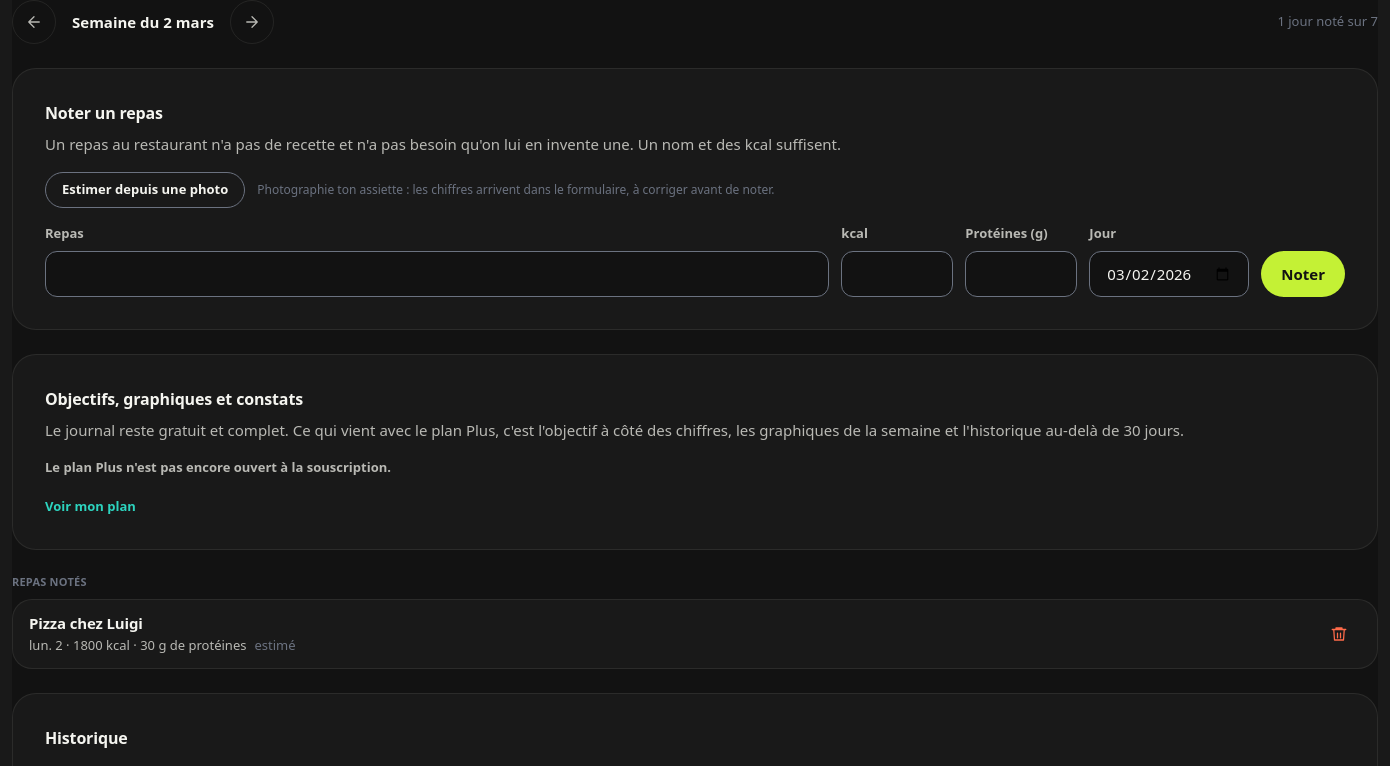
Test: Journal › puts a deleted entry back, with the figures it had
Click the button named "Retirer Pizza chez Luigi du journal": point(1339, 634) [1317,612,1361,656]
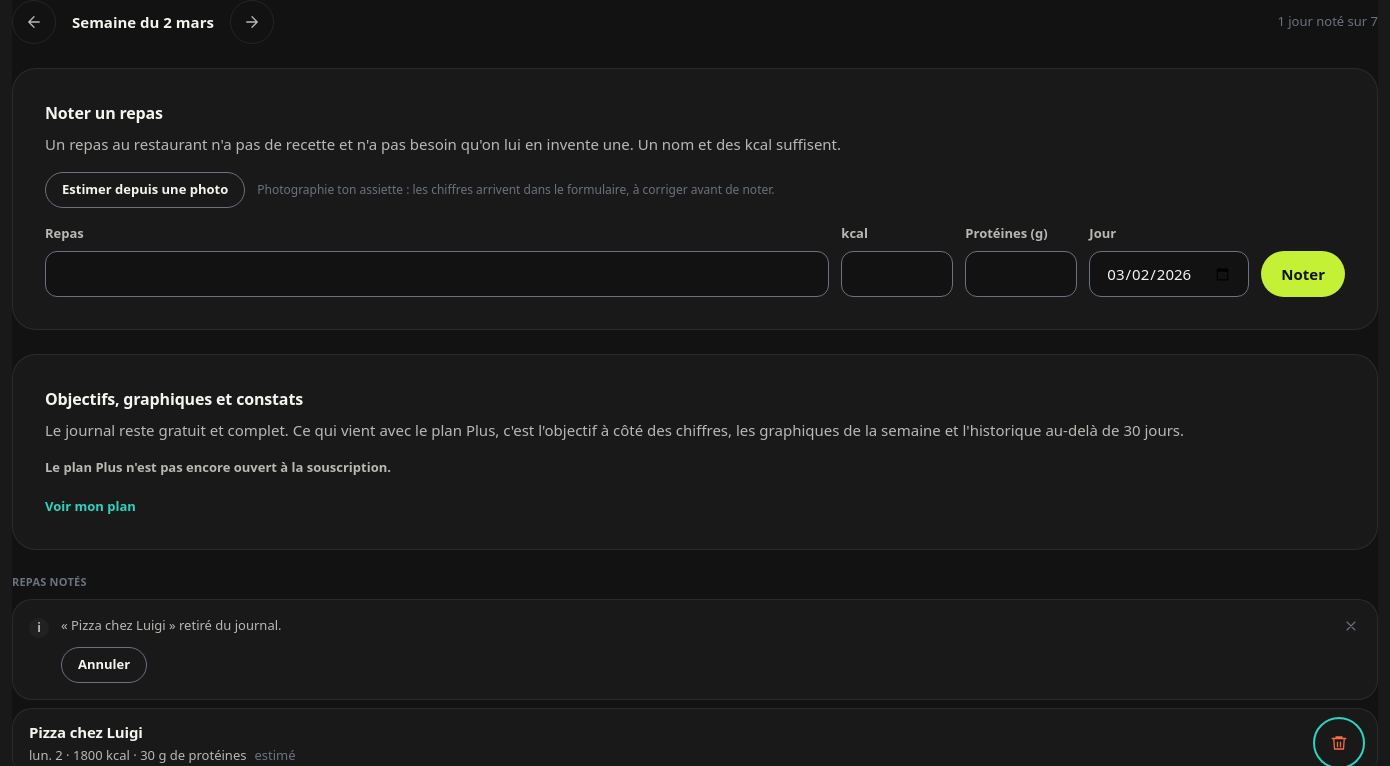
expect the message with test id "entry-removed" shows "Pizza chez Luigi": met, box [61,616,282,634]
Click the button with test id "undo-remove": point(104, 665) [61,647,147,683]
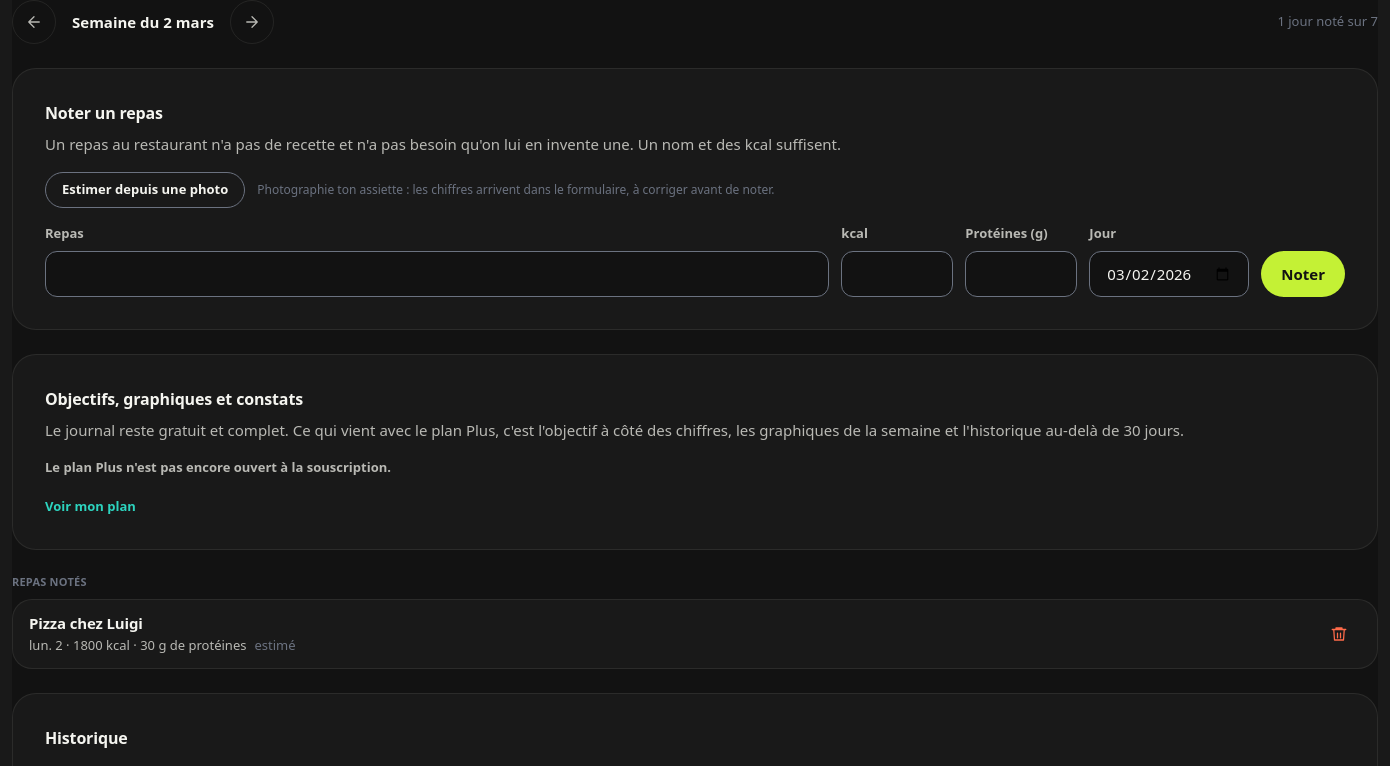
expect the message with test id "entry-removed" is gone: met
